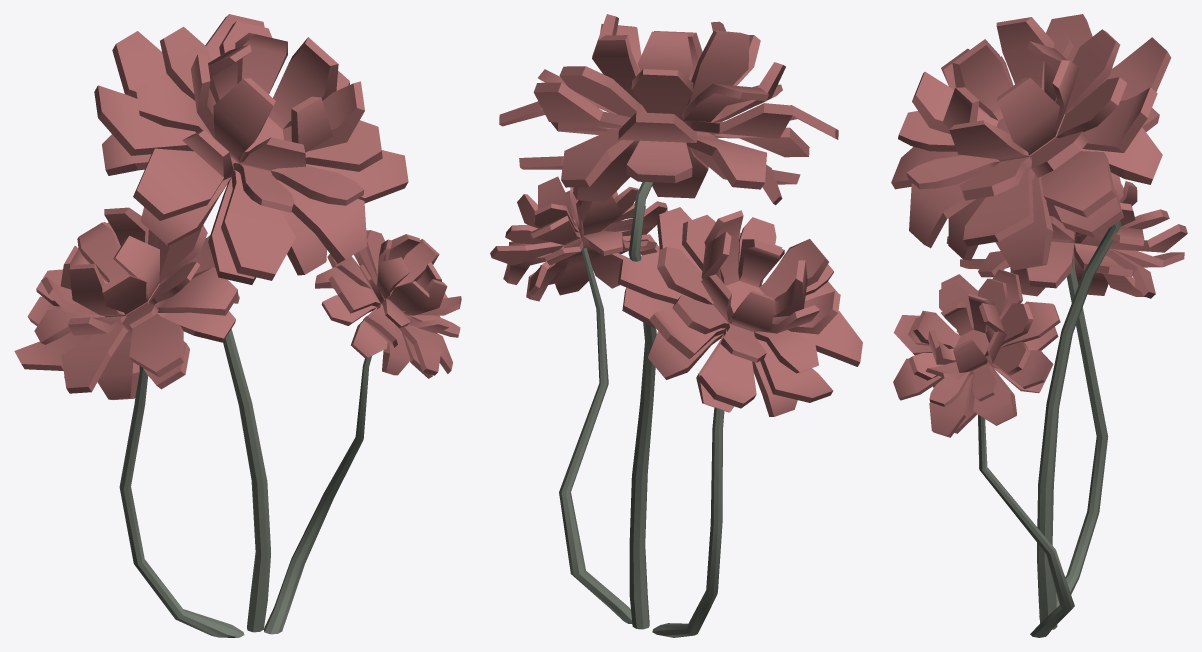
Rendered from flower_set.fbx.
3 renders of one model, left to right at view 1: azimuth 30°, elevation 25°; view 2: azimuth 150°, elevation 25°; view 3: azimuth 270°, elevation 25°, orthographic. The views are drawn at different scales.
Parts seen in each view (by area): view 1: flo1, flo2, flo3, pCylinder2, pCylinder3, pCylinder4; view 2: flo1, flo2, flo3, pCylinder2, pCylinder4, pCylinder3; view 3: flo1, flo3, flo2, pCylinder2, pCylinder3, pCylinder4.
Part boxes in pixels (<box>): flo1: <box>94,14,408,284</box>; flo2: <box>14,207,239,399</box>; flo3: <box>315,230,461,378</box>; pCylinder2: <box>205,238,270,632</box>; pCylinder3: <box>119,366,244,637</box>; pCylinder4: <box>264,356,371,634</box>; flo1: <box>499,14,838,205</box>; flo2: <box>618,207,862,416</box>; flo3: <box>490,176,667,301</box>; pCylinder2: <box>628,182,656,629</box>; pCylinder4: <box>559,248,632,623</box>; pCylinder3: <box>652,407,724,637</box>; flo1: <box>891,14,1170,269</box>; flo3: <box>893,269,1060,437</box>; flo2: <box>946,172,1187,298</box>; pCylinder2: <box>1037,220,1121,629</box>; pCylinder3: <box>1039,252,1108,617</box>; pCylinder4: <box>978,415,1074,637</box>.
Size of the model in its own units: 12.84 by 19.74 by 9.16.
